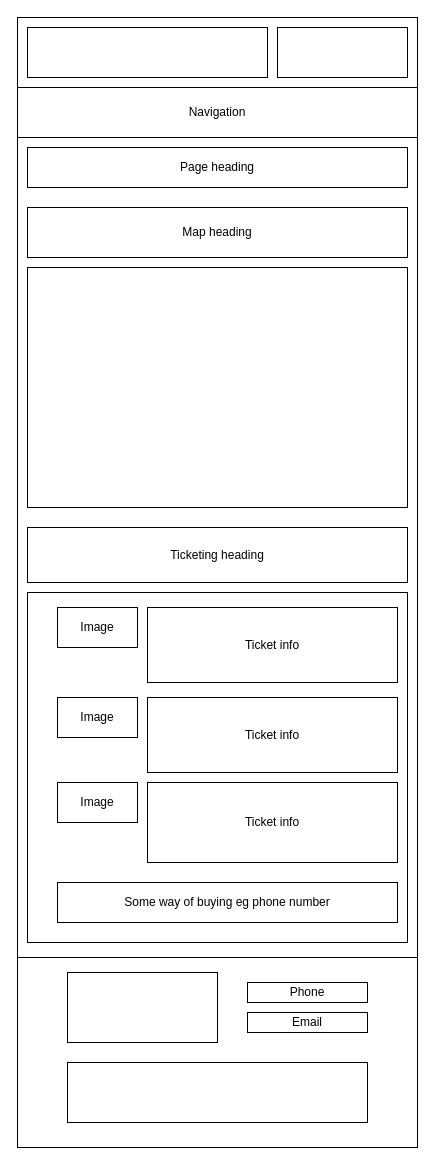
Image size: 435x1165. Some labels were removed from this diagram. Here are the shapes that lost their labels. From the top down, the box of each, then its label:
(26, 26, 268, 78): Logo
(276, 26, 408, 78): Buy tickets button
(26, 266, 408, 508): Map with links or different image more suited to mobile?
(66, 972, 218, 1042): Address
(66, 1062, 368, 1122): Social media buttons
